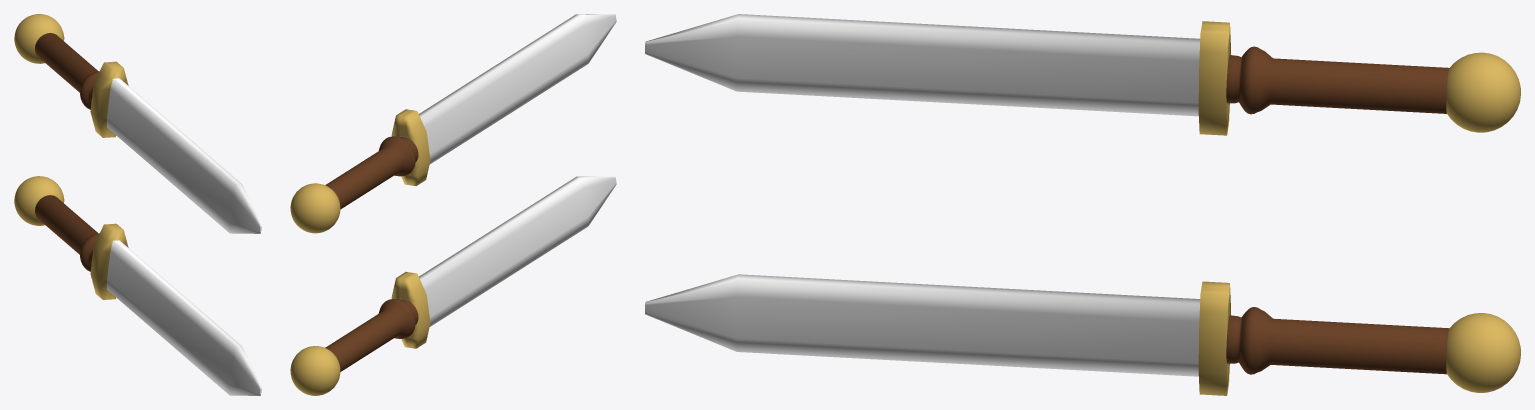
Rendered from sword Pieces.fbx.
The picture shows the model from 3 angles, left to right: view 1: azimuth 30°, elevation 25°; view 2: azimuth 150°, elevation 25°; view 3: azimuth 270°, elevation 25°; orthographic projection. The views are drawn at different scales.
Parts seen in each view (by area): view 1: Cylinder, Cylinder.002, Cylinder.001; view 2: Cylinder, Cylinder.002, Cylinder.001; view 3: Cylinder, Cylinder.002, Cylinder.001.
Part boxes in pixels (bbox=[...]): Cylinder: bbox=[14, 176, 261, 395]; Cylinder.002: bbox=[90, 61, 261, 233]; Cylinder.001: bbox=[14, 14, 99, 109]; Cylinder: bbox=[290, 176, 616, 395]; Cylinder.002: bbox=[391, 14, 616, 185]; Cylinder.001: bbox=[290, 136, 415, 233]; Cylinder: bbox=[645, 274, 1520, 395]; Cylinder.002: bbox=[645, 14, 1237, 135]; Cylinder.001: bbox=[1234, 46, 1520, 132].
Bounding box in the file's own units: 564 × 1996 × 4269.
